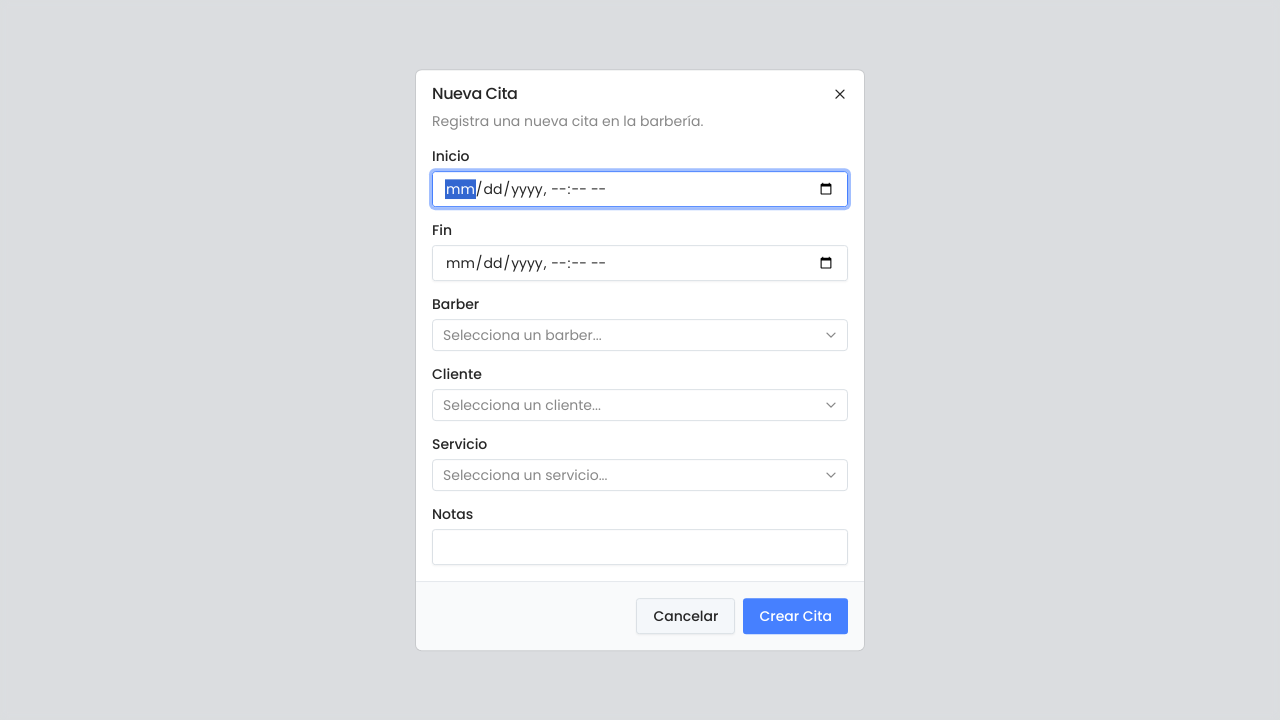
Test: AppointmentFormDialog › muestra toast de error cuando falla la creación
The width and height of the screenshot is (1280, 720).
In the field labelled "Inicio": [640, 189] box x1=432 y1=171 x2=848 y2=207, type "2026-08-02T14:00"
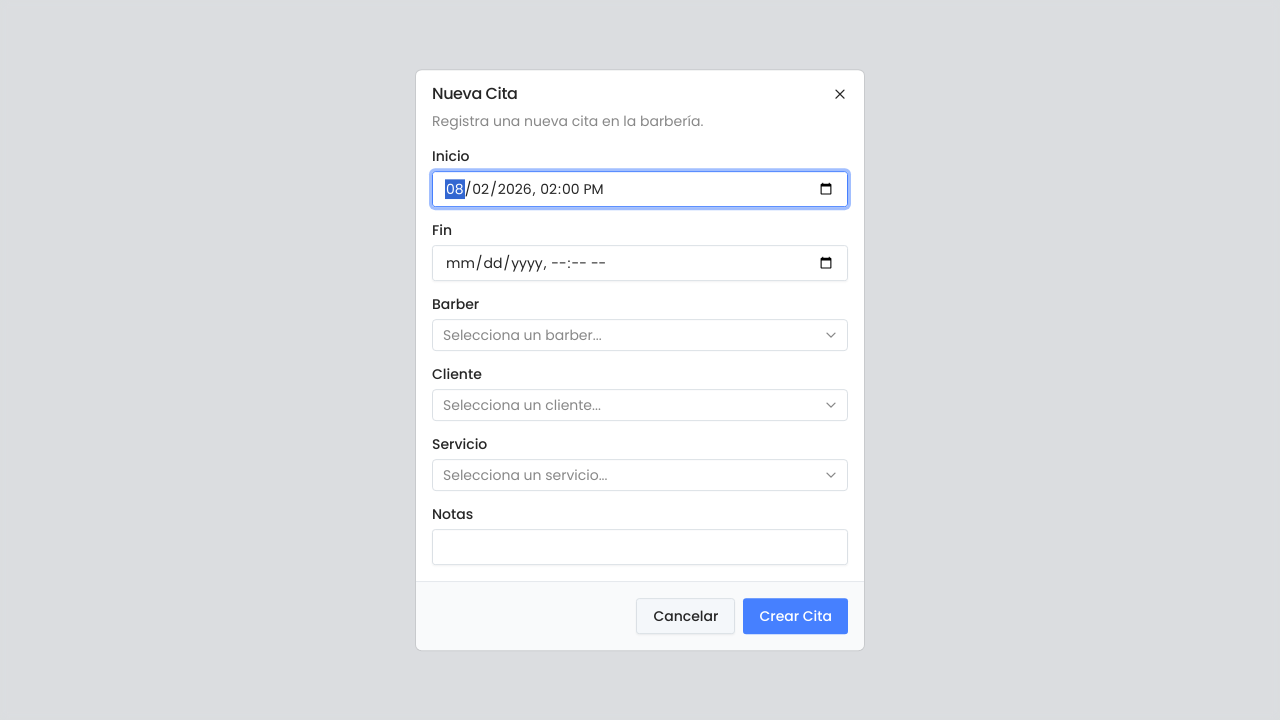
In the field labelled "Fin": [640, 263] box x1=432 y1=245 x2=848 y2=281, type "2026-08-02T14:30"
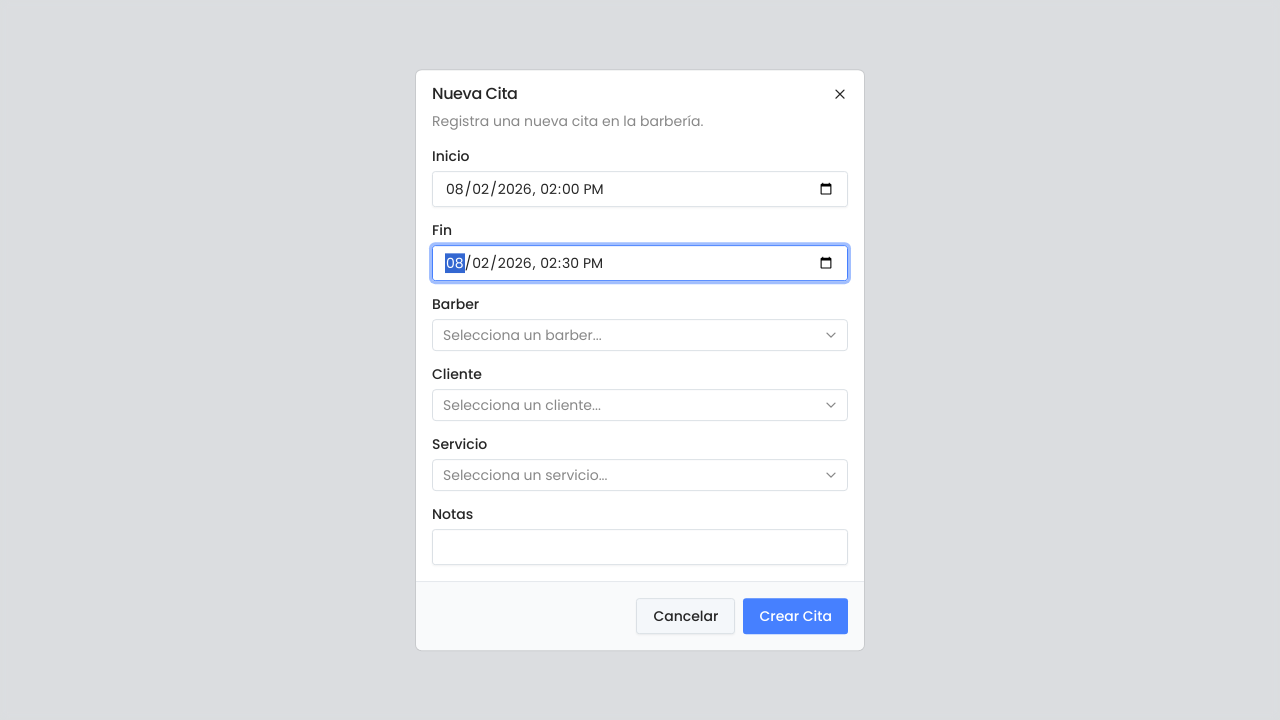
Click the dropdown labelled "Selecciona un barber... ▼": [522, 335] box x1=432 y1=319 x2=848 y2=351
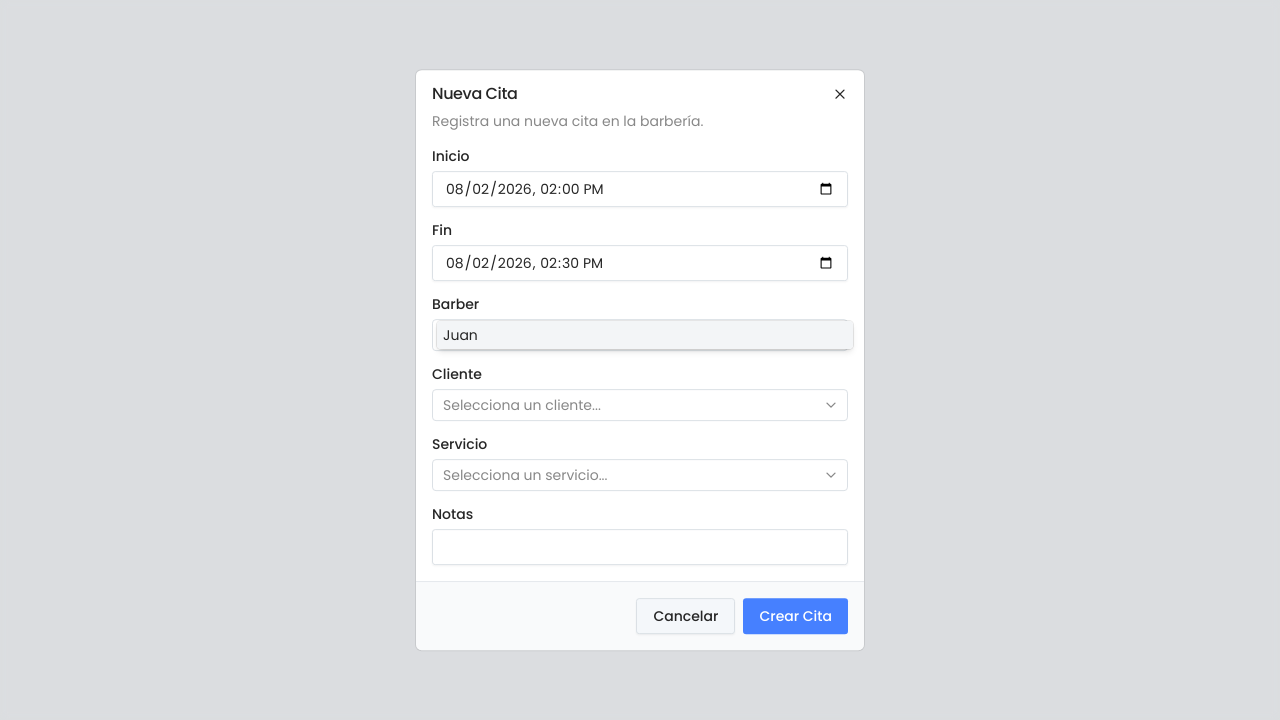
Click the option "Juan": [460, 335] box x1=437 y1=321 x2=853 y2=349
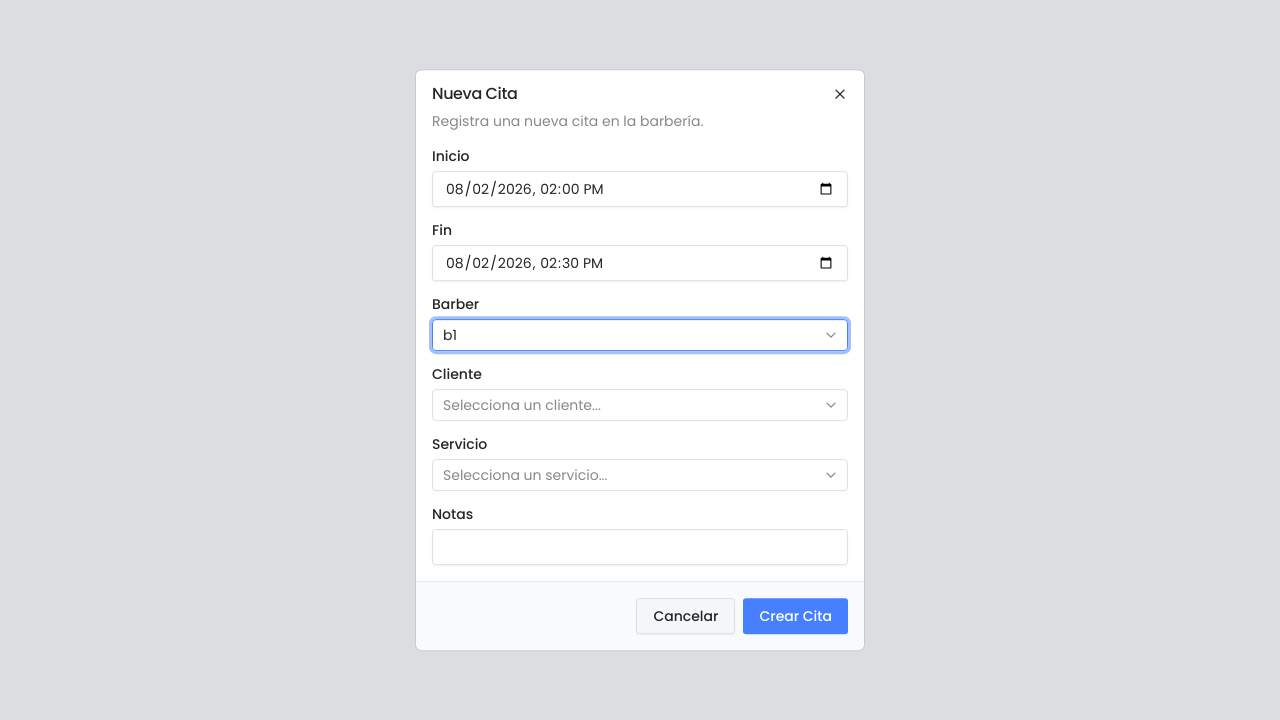
Click the button "Crear Cita": [796, 616] box x1=743 y1=598 x2=848 y2=634
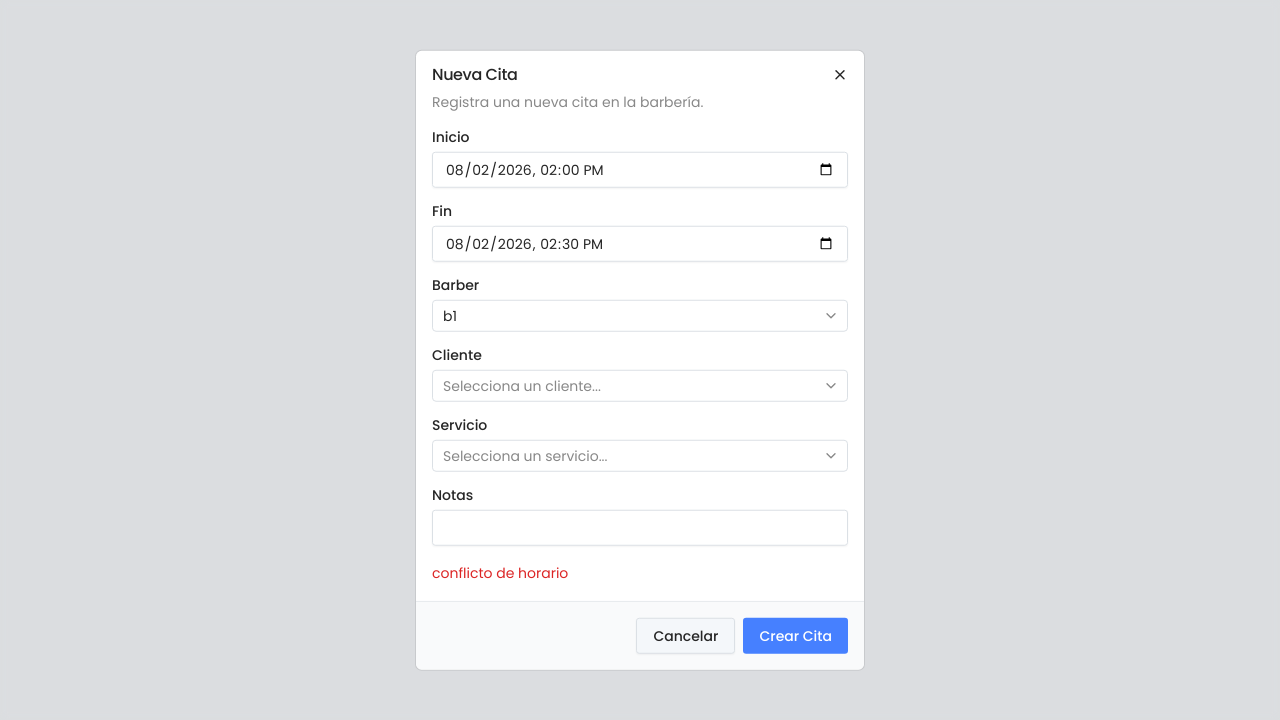
Check: the text "conflicto de horario" is shown, box x1=432 y1=562 x2=568 y2=582
